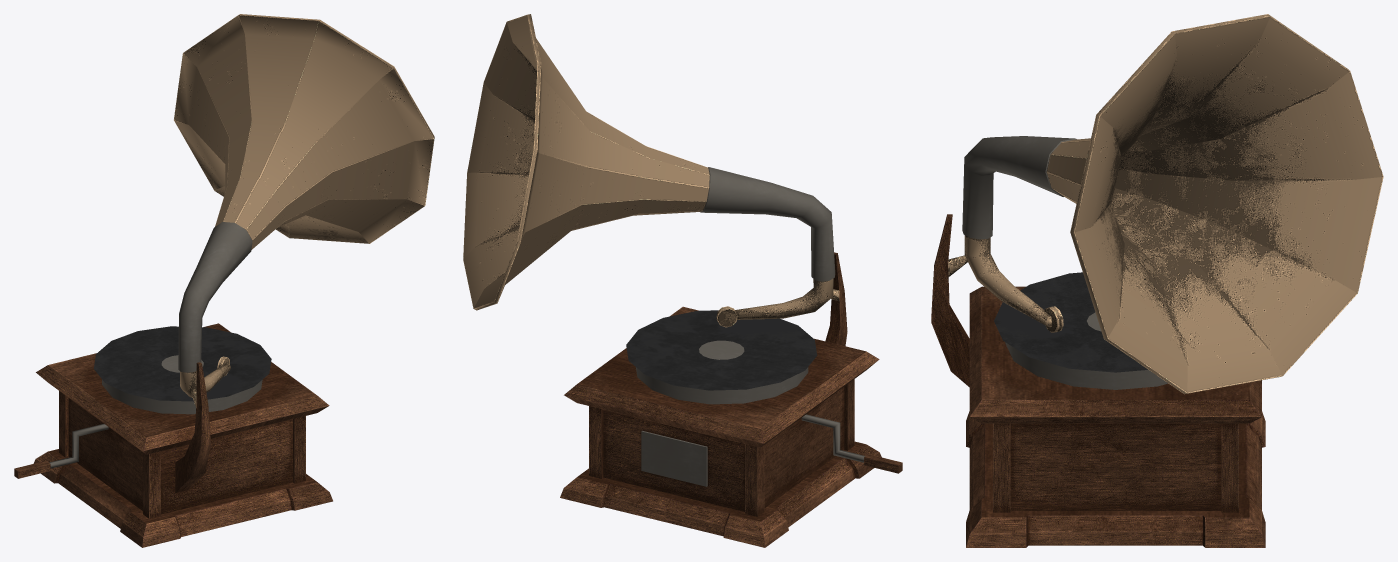
File: chikuon.fbx
3 renders of one model, left to right at view 1: azimuth 30°, elevation 25°; view 2: azimuth 150°, elevation 25°; view 3: azimuth 270°, elevation 25°, orthographic. The views are drawn at different scales.
Parts seen in each view (by area): view 1: chikuon; view 2: chikuon; view 3: chikuon.
Part boxes in pixels (x1,y1,x2,y2): chikuon: [14, 14, 434, 547]; chikuon: [463, 14, 902, 547]; chikuon: [931, 14, 1383, 547].
Size of the model in its own units: 130 by 125 by 92.07.
